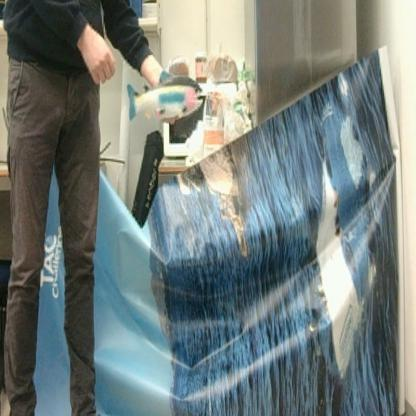rubberfish: (127, 70, 204, 121)
